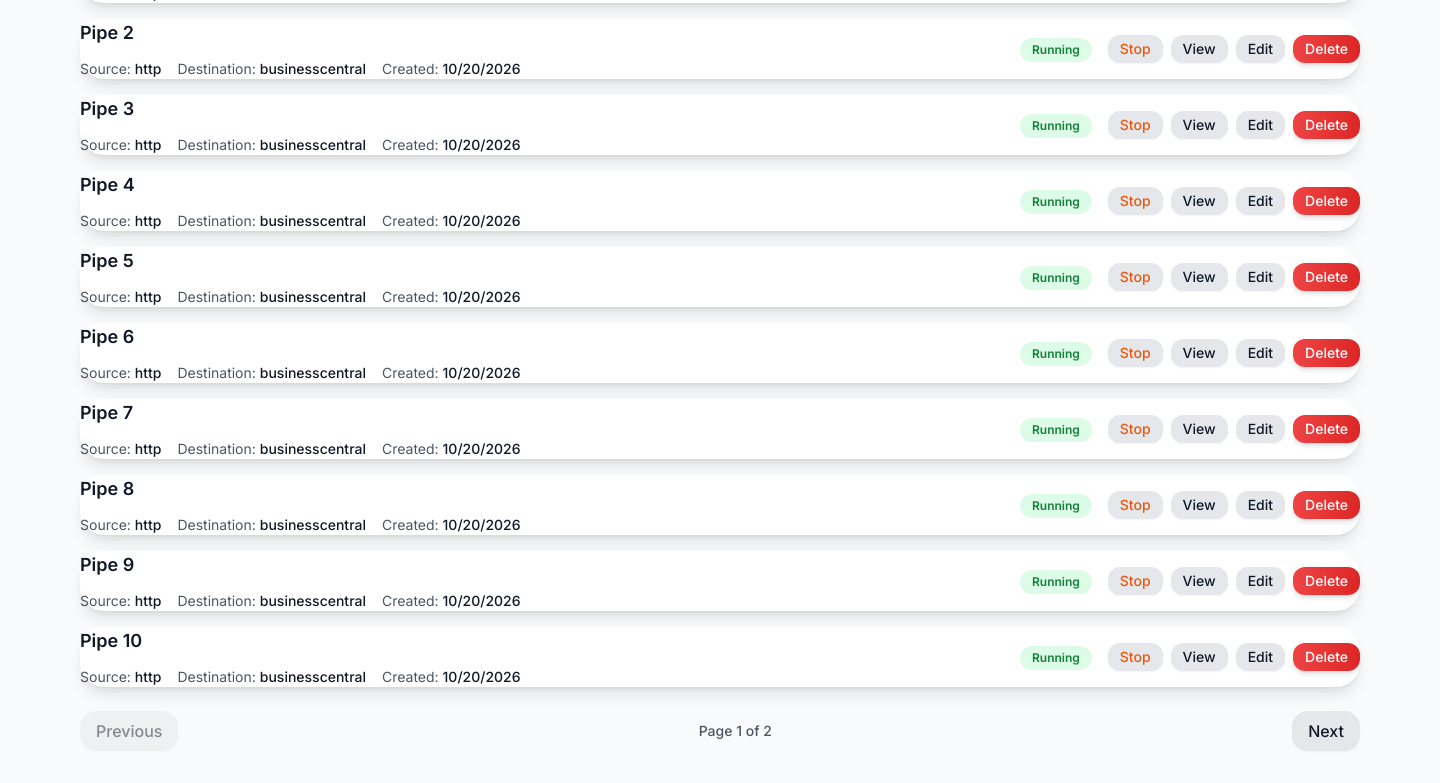
Test case: ConnectionsList: pagination › pages through with Next and Previous, asking for the right offset
(page scrolled)
Expected: the text "Page 1 of 2" is shown, [699,721,772,741]
Expected: the button "Previous" is disabled, [80,711,178,751]
Click the button "Next". click: [1326, 731]
box: [1292,711,1360,751]
(page scrolled)
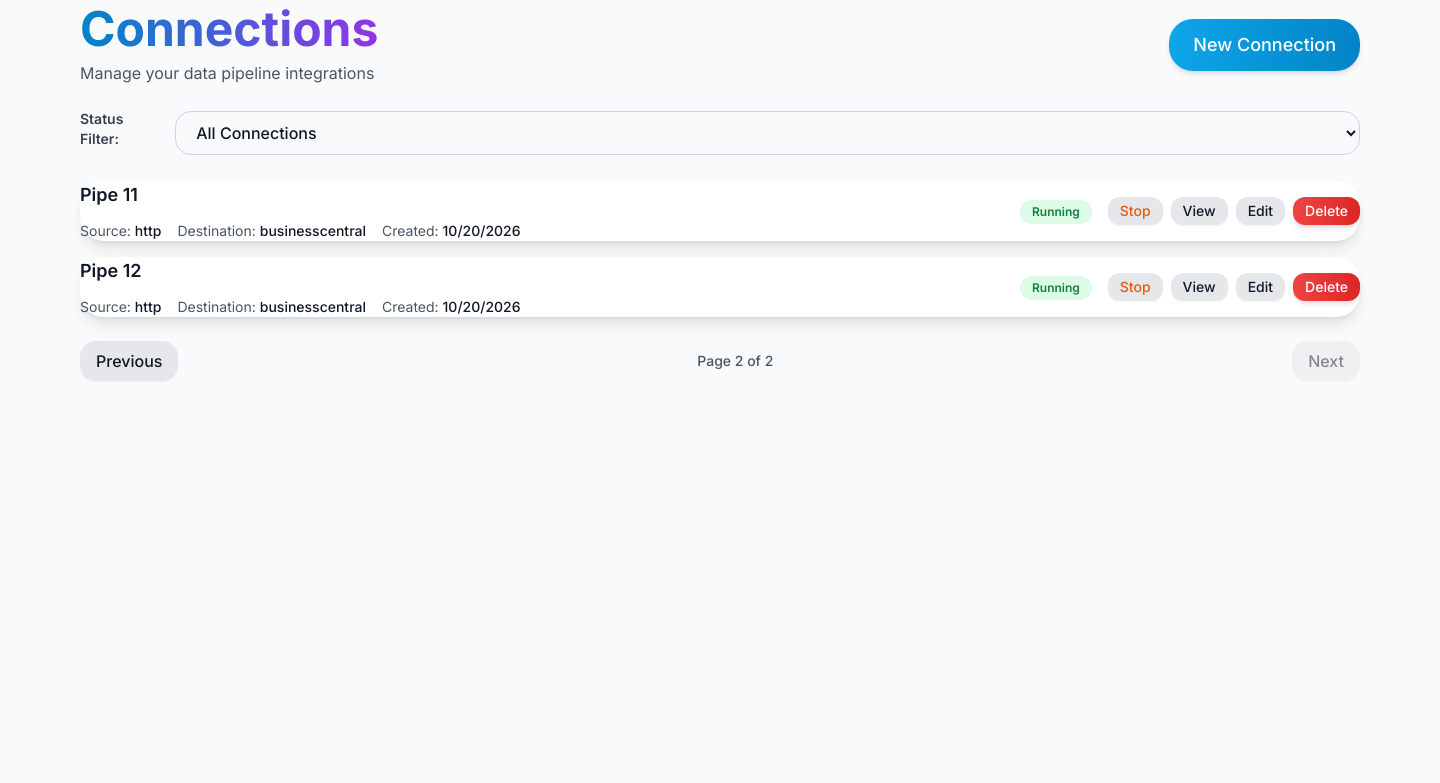
Result: the heading "Pipe 11" is shown at [80,184,138,205]
Result: the text "Page 2 of 2" is shown at [697,351,773,371]
Result: the button "Next" is disabled at [1292,341,1360,381]
Click the button "Previous". click: [129, 361]
box: [80,341,178,381]
(page scrolled)
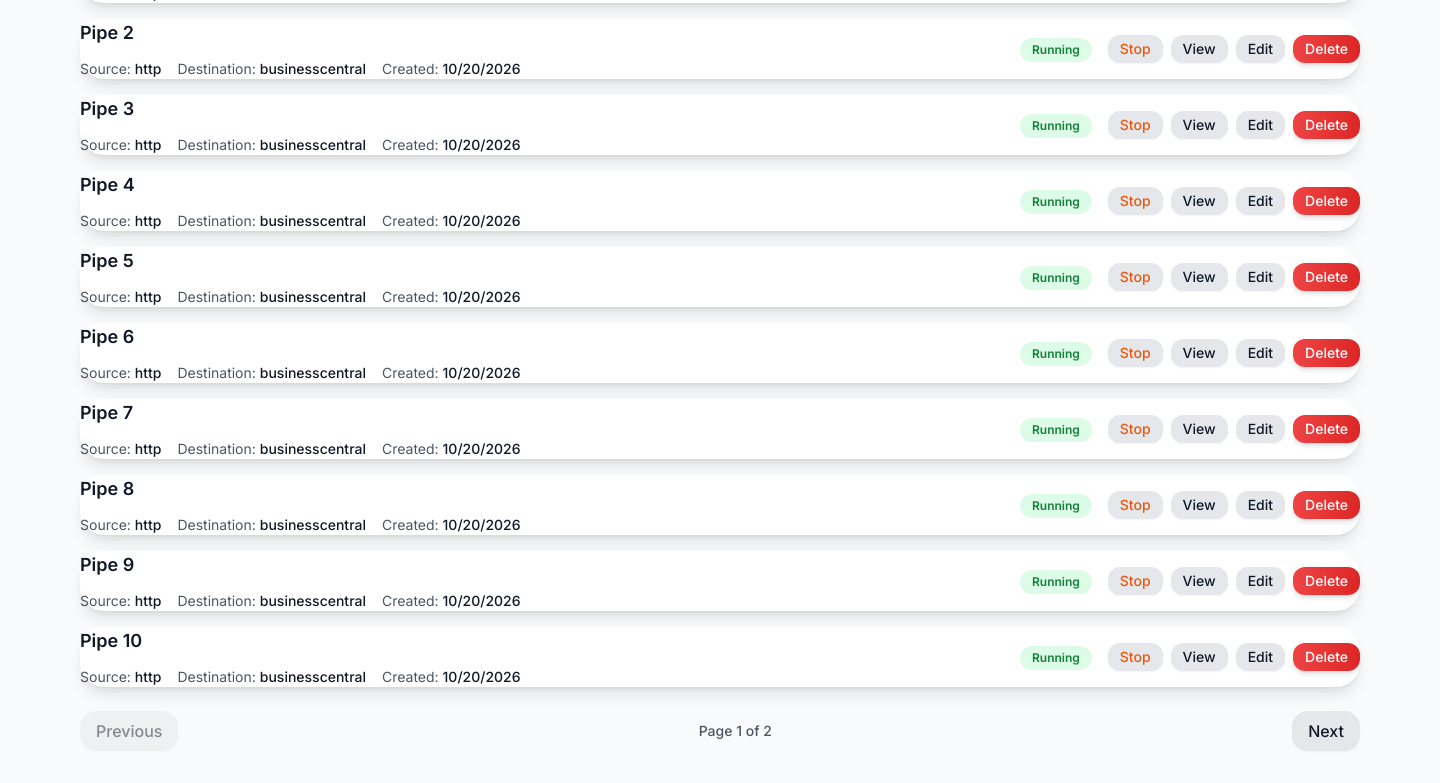
Result: the text "Page 1 of 2" is shown at [699,721,772,741]
